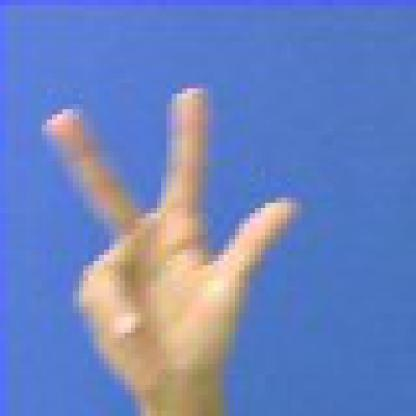eight: (26, 70, 313, 416)
